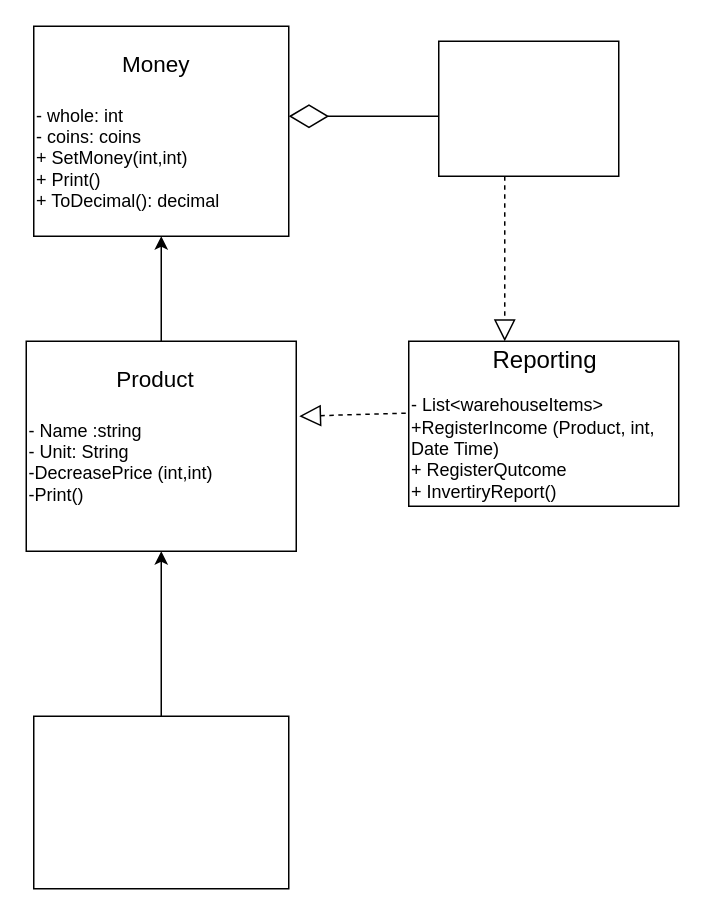
Image size: 705x915. Some labels were removed from this diagram. The box of each missing label's shape, as (x1, y1, x2, y2) in pixels:
Program +static Main(): (437, 40, 619, 176)
WarehouseItem -Product: Product -Quantity: int -LastSupplyDate: DataTime: (32, 715, 289, 889)
